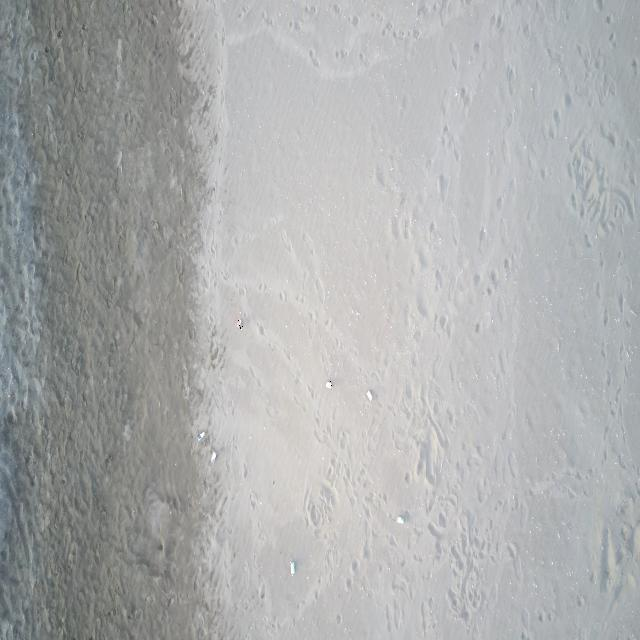tin-and-aluminum-cans: (197, 430, 206, 442), (210, 450, 217, 464), (290, 561, 296, 576), (366, 390, 373, 402), (237, 318, 244, 330), (396, 516, 404, 524), (325, 381, 332, 390)
